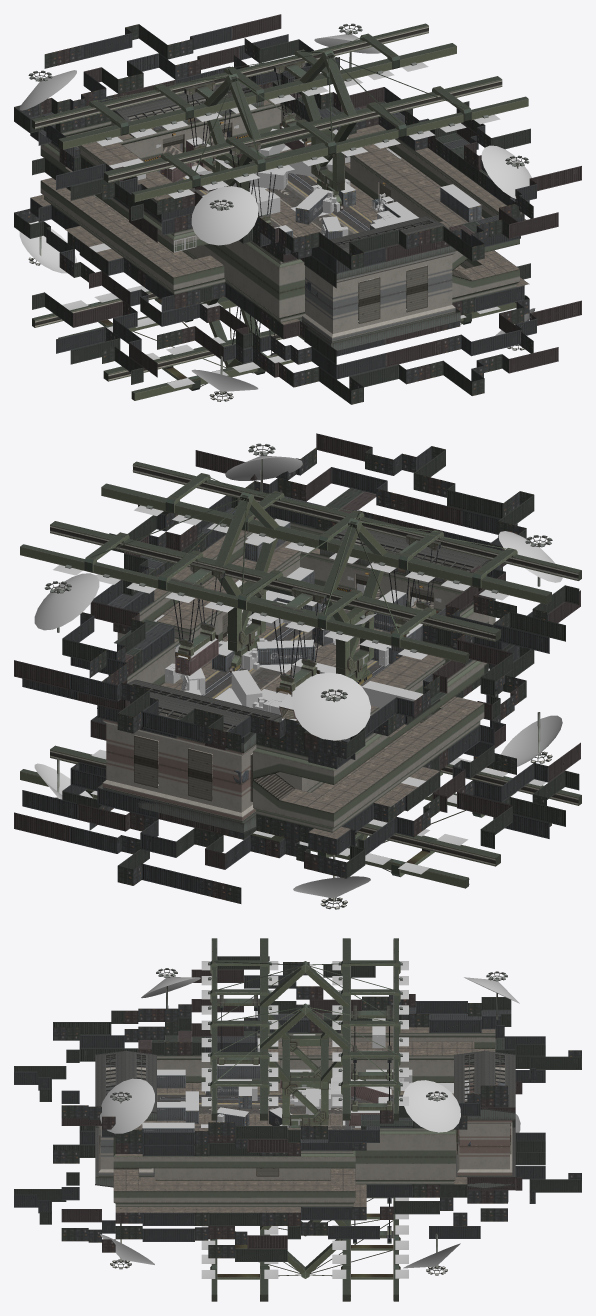
The model's file is NPort_World.obj.
The picture shows the model from 3 angles, top to bottom: view 1: azimuth 30°, elevation 25°; view 2: azimuth 150°, elevation 25°; view 3: azimuth 270°, elevation 25°; orthographic projection. The views are drawn at different scales.
Parts seen in each view (by area): view 1: NPort_World,NPort_World_Ref, Lamp_Light_Emissive, NPort_World_Object,NPort_World_Object_Ref; view 2: NPort_World,NPort_World_Ref, Lamp_Light_Emissive, NPort_World_Object,NPort_World_Object_Ref, NPort_Alpa,NPort_Alpa_Ref; view 3: NPort_World,NPort_World_Ref, Lamp_Light_Emissive, NPort_World_Object,NPort_World_Object_Ref.
Part boxes in pixels (x1,y1,x2,y2): NPort_World,NPort_World_Ref: (14,14,581,404); Lamp_Light_Emissive: (19,34,535,391); NPort_World_Object,NPort_World_Object_Ref: (89,126,481,281); NPort_World,NPort_World_Ref: (14,433,581,909); Lamp_Light_Emissive: (34,455,562,898); NPort_World_Object,NPort_World_Object_Ref: (154,518,425,786); NPort_Alpa,NPort_Alpa_Ref: (215,576,441,705); NPort_World,NPort_World_Ref: (14,938,581,1301); Lamp_Light_Emissive: (100,961,520,1278); NPort_World_Object,NPort_World_Object_Ref: (142,1018,469,1132).
Size of the model in its own units: 76.53 by 52.06 by 98.48.
